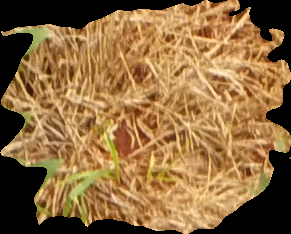soil: (1, 1, 291, 232)
